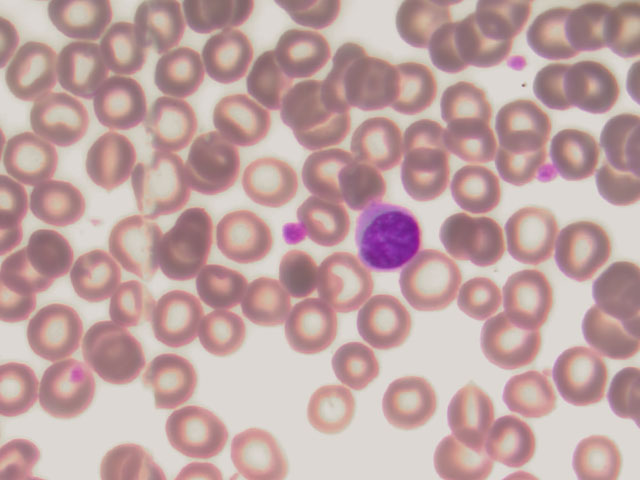Platelets: (283, 220, 306, 250), (535, 161, 560, 188), (505, 52, 531, 72)
RBC: (6, 40, 61, 96), (33, 87, 88, 143), (2, 130, 57, 186), (33, 175, 88, 231), (29, 222, 84, 278), (3, 248, 58, 304), (69, 247, 124, 303), (29, 298, 84, 354), (39, 361, 94, 417), (88, 334, 143, 390), (80, 315, 135, 371), (106, 272, 161, 328), (111, 218, 166, 274), (131, 157, 186, 213), (84, 133, 139, 189), (94, 76, 149, 132), (48, 34, 103, 90), (89, 16, 144, 72), (57, 1, 112, 57), (154, 48, 209, 104), (145, 90, 200, 146), (184, 133, 239, 189), (217, 94, 272, 150), (204, 33, 259, 89), (275, 24, 330, 80), (243, 49, 298, 105), (280, 76, 335, 132), (295, 102, 350, 158), (351, 54, 406, 110), (326, 38, 381, 94), (386, 60, 441, 116), (358, 110, 413, 166), (338, 151, 393, 207), (307, 148, 362, 204), (302, 189, 357, 245), (239, 155, 294, 211), (220, 211, 275, 267), (196, 254, 251, 310), (155, 289, 210, 345), (169, 208, 224, 264), (152, 238, 207, 294), (195, 308, 250, 364), (142, 352, 197, 408), (168, 400, 223, 456), (234, 424, 289, 480), (306, 382, 361, 438), (329, 338, 384, 394), (284, 299, 339, 355), (241, 276, 296, 332), (268, 247, 323, 303), (315, 255, 370, 311), (353, 292, 408, 348), (408, 255, 463, 311), (444, 268, 499, 324), (464, 217, 519, 273), (435, 209, 490, 265), (449, 164, 504, 220), (402, 157, 457, 213), (399, 117, 454, 173), (444, 118, 499, 174), (442, 86, 497, 142), (499, 98, 554, 154), (487, 128, 542, 184), (557, 127, 612, 183), (572, 57, 627, 113), (536, 59, 591, 115), (524, 8, 579, 64), (462, 16, 517, 72), (431, 24, 486, 80), (554, 223, 609, 279), (509, 208, 564, 264), (502, 273, 557, 329), (485, 312, 540, 368), (557, 350, 612, 406), (576, 302, 631, 358), (585, 254, 640, 310), (501, 367, 556, 423), (486, 413, 541, 469), (447, 386, 502, 442), (438, 424, 493, 480), (384, 373, 439, 429), (571, 424, 626, 480), (135, 1, 190, 56), (564, 1, 619, 56), (394, 1, 449, 56), (1, 362, 35, 417)
WBC: (354, 202, 424, 268)
